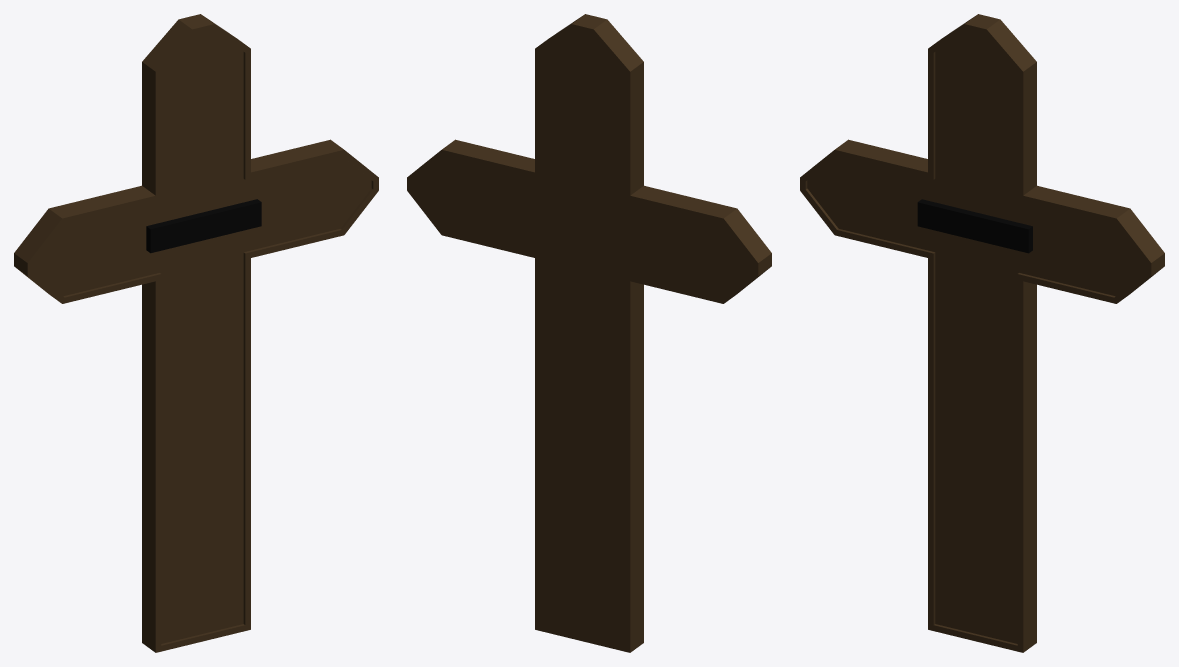
File: Cross_002.fbx
The picture shows the model from 3 angles, left to right: view 1: azimuth 30°, elevation 25°; view 2: azimuth 150°, elevation 25°; view 3: azimuth 330°, elevation 25°; orthographic projection.
Visible parts, largest first — view 1: cross_002; view 2: cross_002; view 3: cross_002.
Part boxes in pixels (bbox=[...]): cross_002: bbox=[14, 14, 378, 652]; cross_002: bbox=[407, 14, 771, 652]; cross_002: bbox=[800, 14, 1164, 652].
Size of the model in its own units: 53.8 by 89.96 by 4.33.
